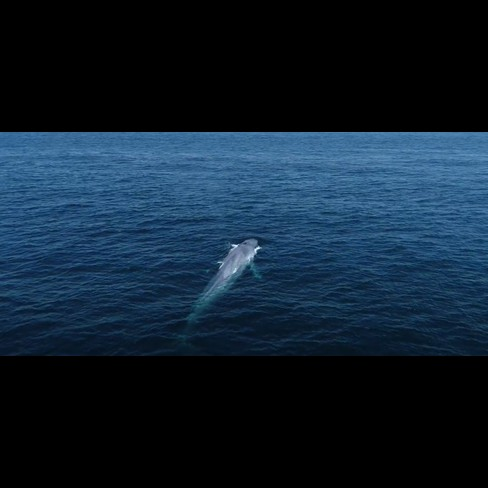bluewhale: (183, 236, 265, 334)
